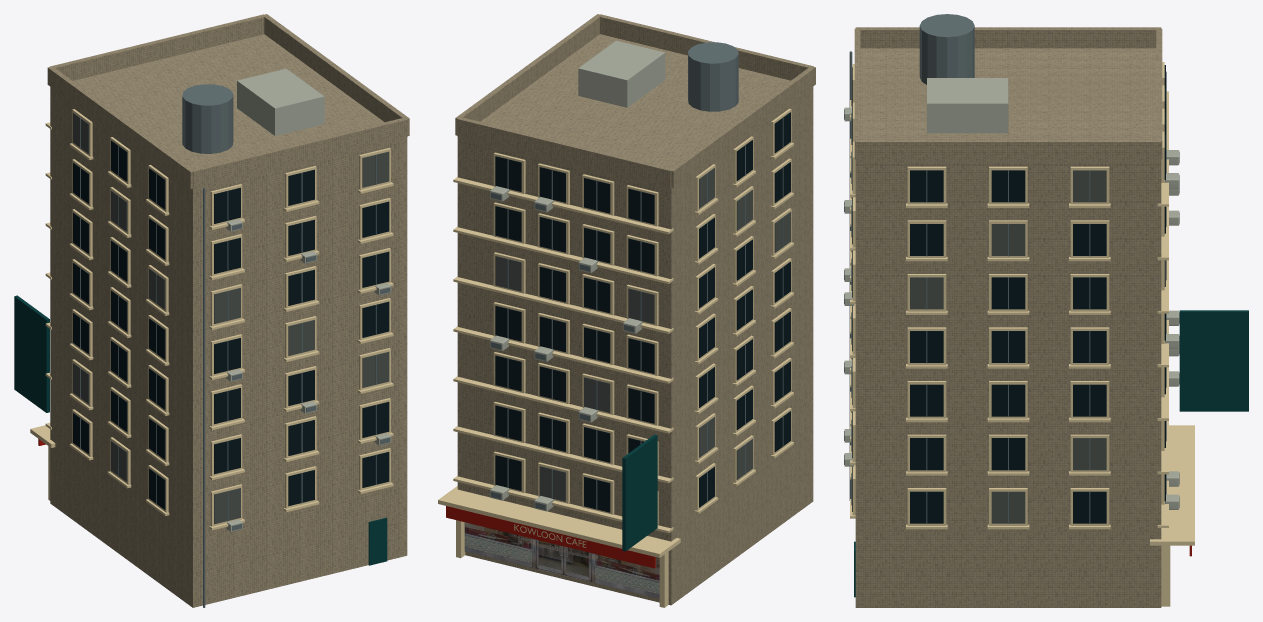
Rendered from shop_0.glb.
The picture shows the model from 3 angles, left to right: view 1: azimuth 30°, elevation 25°; view 2: azimuth 150°, elevation 25°; view 3: azimuth 270°, elevation 25°; orthographic projection. The views are drawn at different scales.
Parts seen in each view (by area): view 1: shop_0_Body.004; view 2: shop_0_Body.004; view 3: shop_0_Body.004.
Part boxes in pixels (bbox=[...]): shop_0_Body.004: bbox=[14, 14, 409, 607]; shop_0_Body.004: bbox=[438, 14, 815, 607]; shop_0_Body.004: bbox=[844, 14, 1248, 607].
Size of the model in its own units: 13.5 by 27.1 by 19.86.
9 materials, 2 textured.
